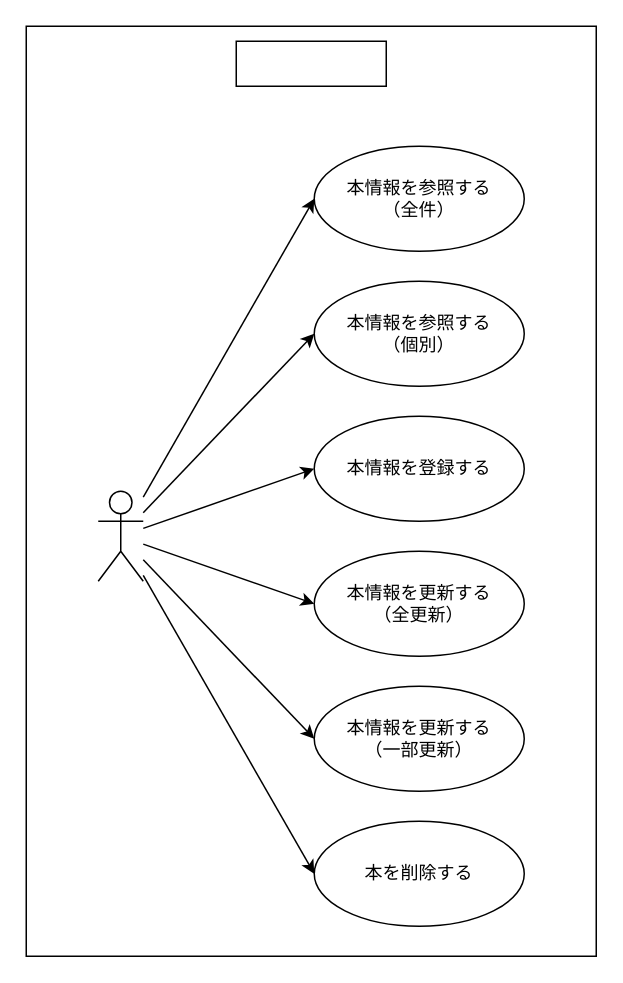
The diagram is 623 pixels wide and 983 high, and some of its shapes have lost their labels. The centre of each missing label's shape, as x and y in pixels:
本棚管理システム: the point at 310,63
本棚管理者: the point at 120,535
